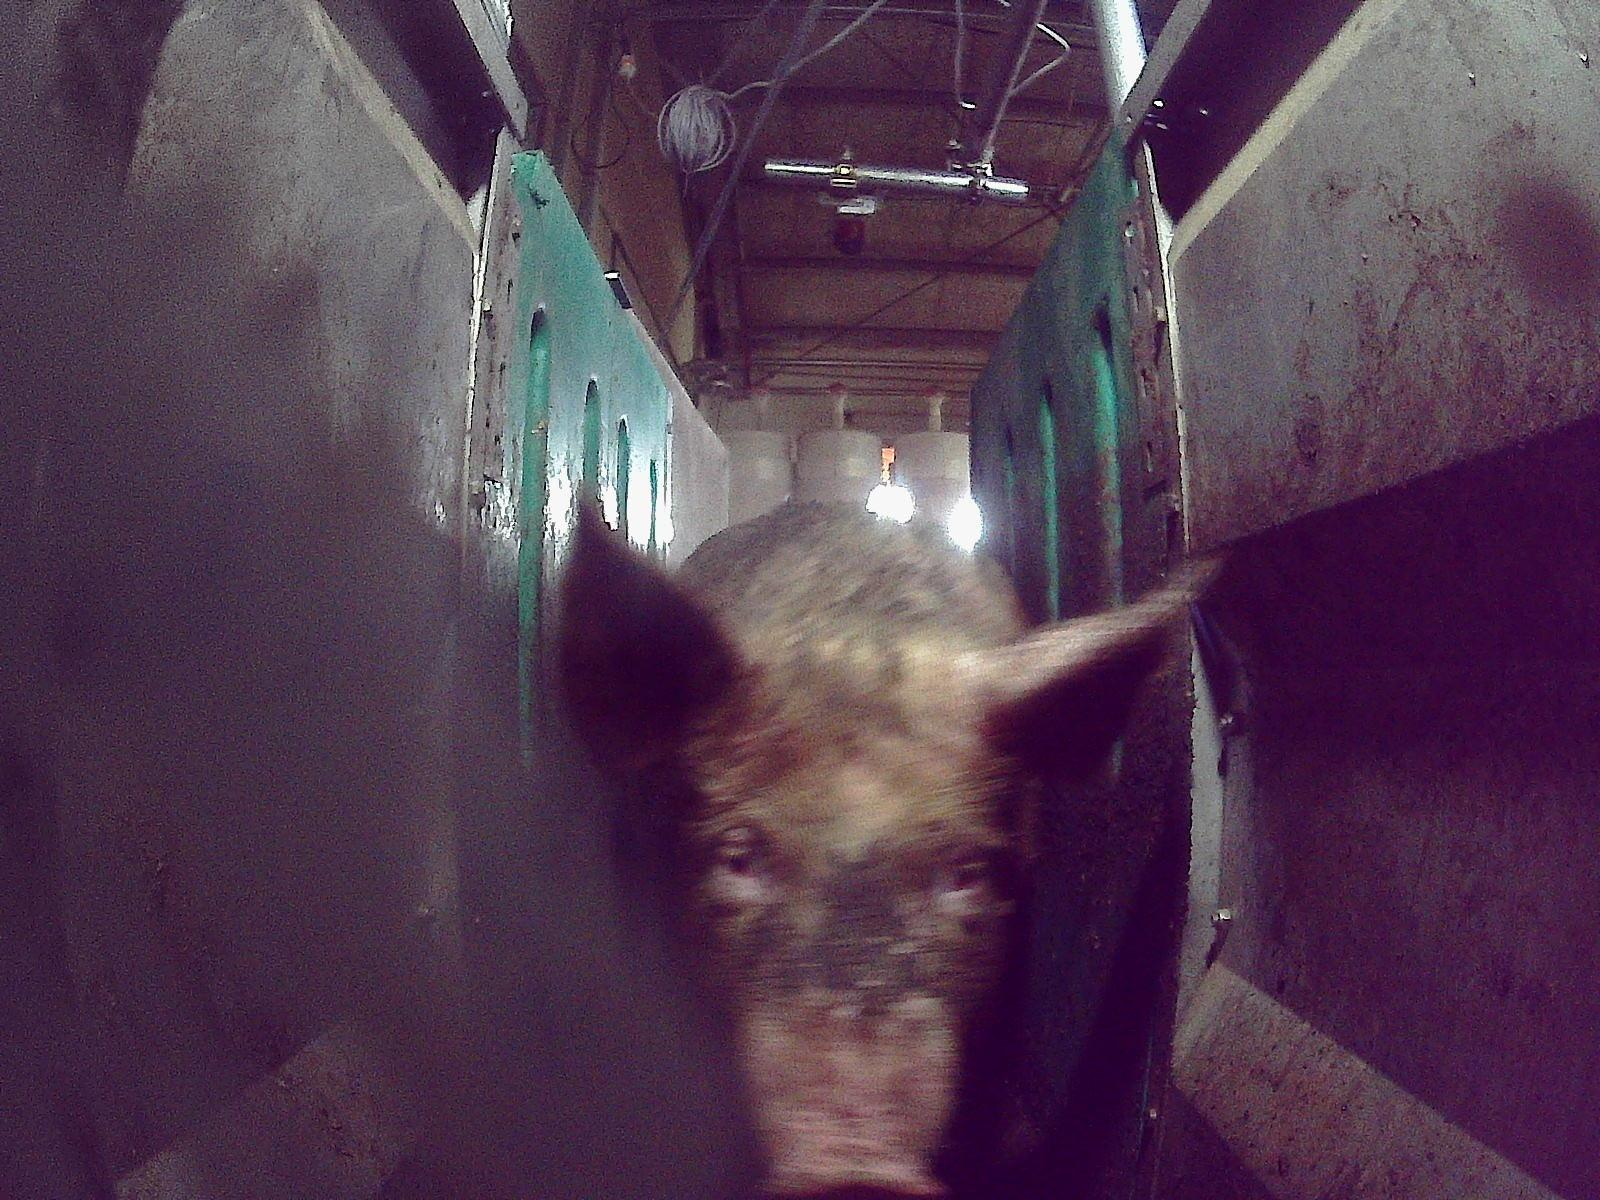Face: (676, 640, 1010, 1199)
